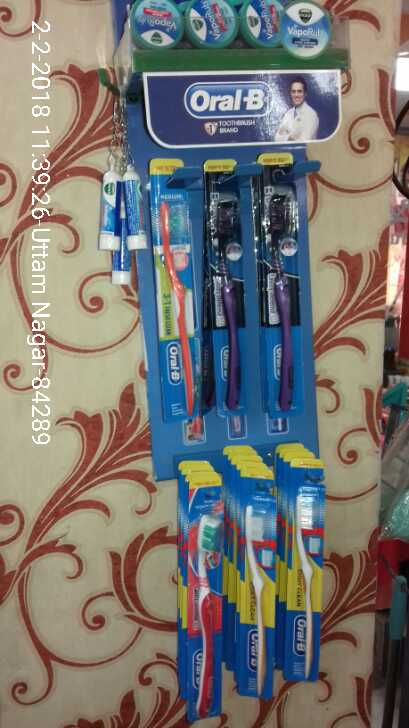pharmacy: (260, 193, 307, 429), (156, 193, 203, 423), (126, 3, 337, 50), (208, 192, 249, 415), (183, 506, 223, 712), (90, 167, 148, 286)
